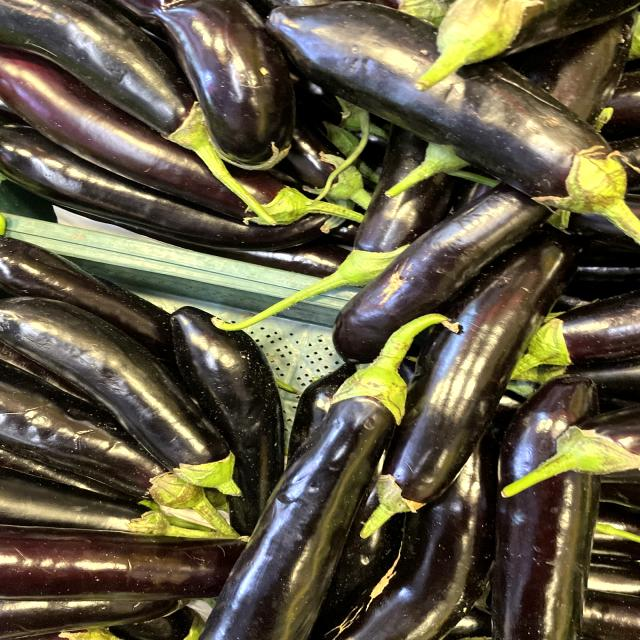eggplant: (193, 302, 487, 640), (264, 0, 640, 249), (0, 289, 260, 497)
